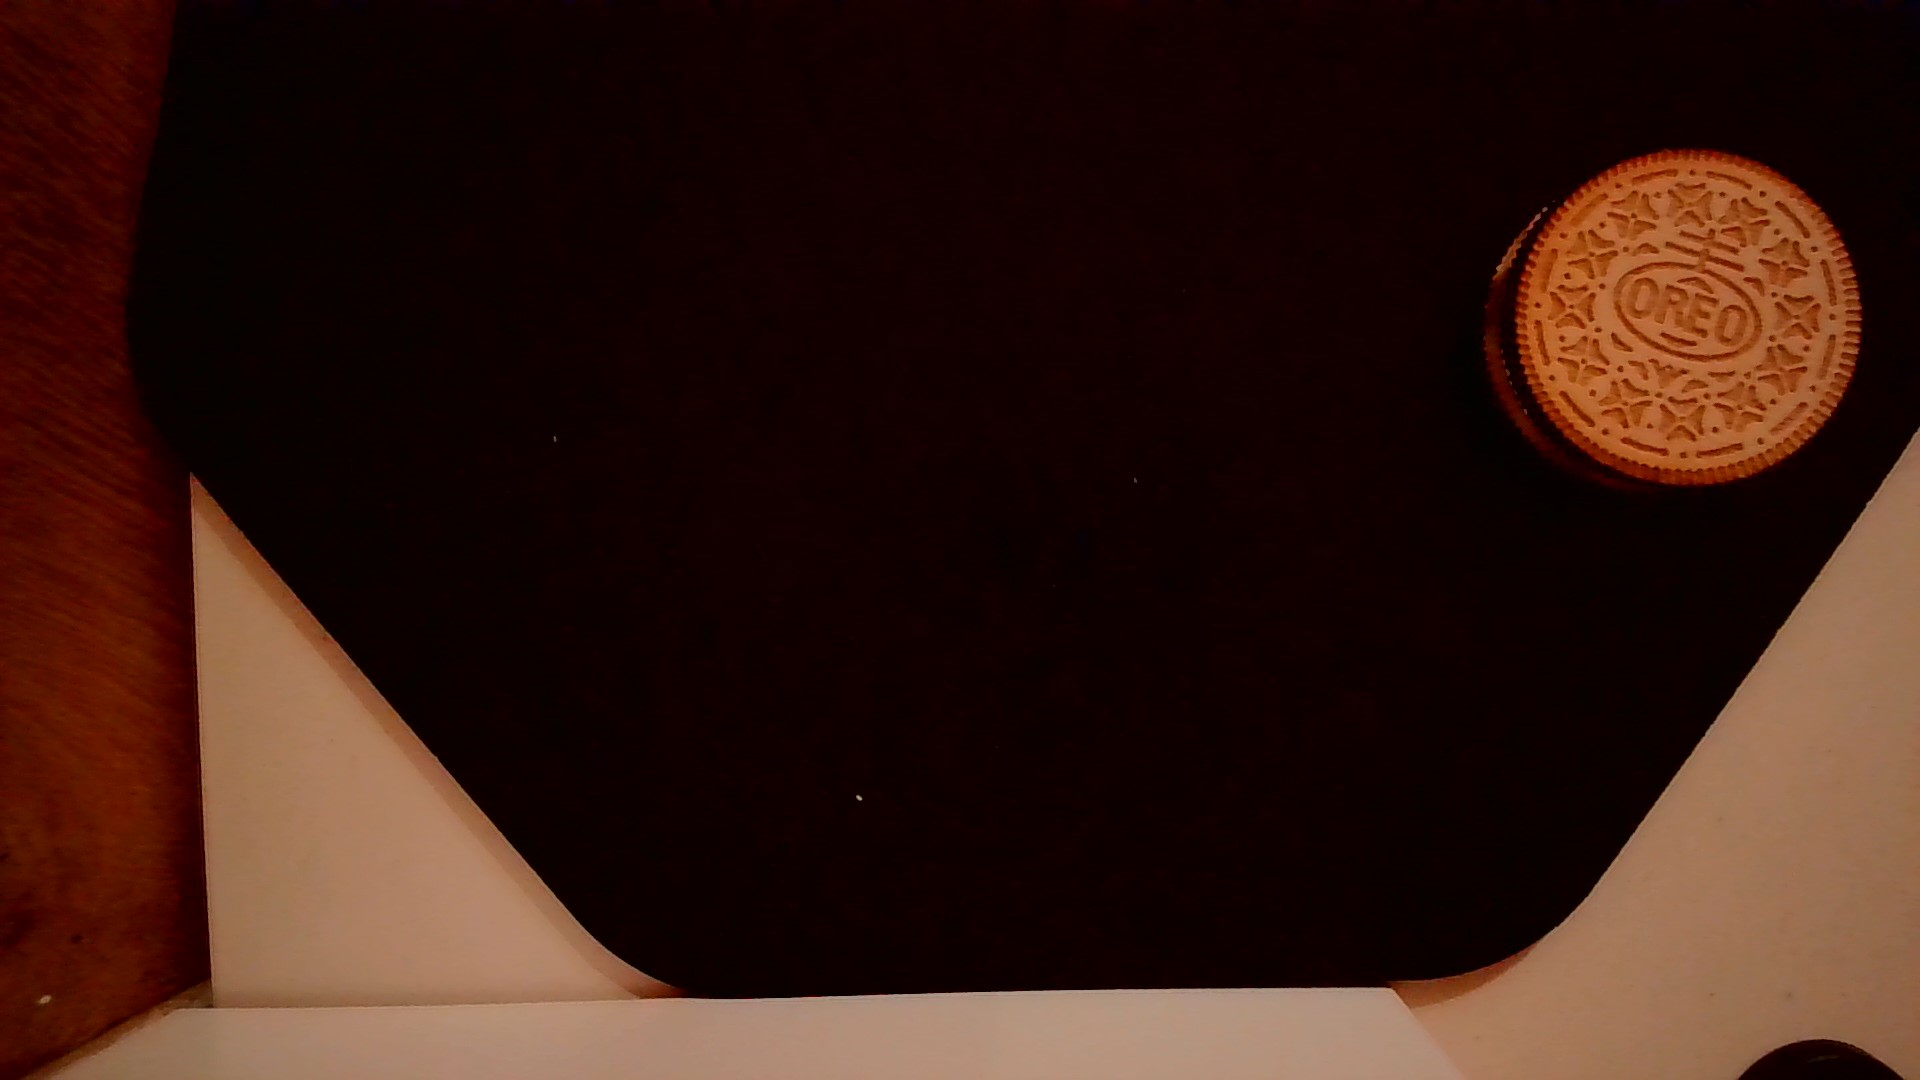Oréo: (1466, 141, 1871, 497)
